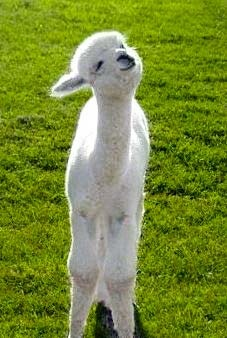alpaca: (50, 29, 150, 338)
